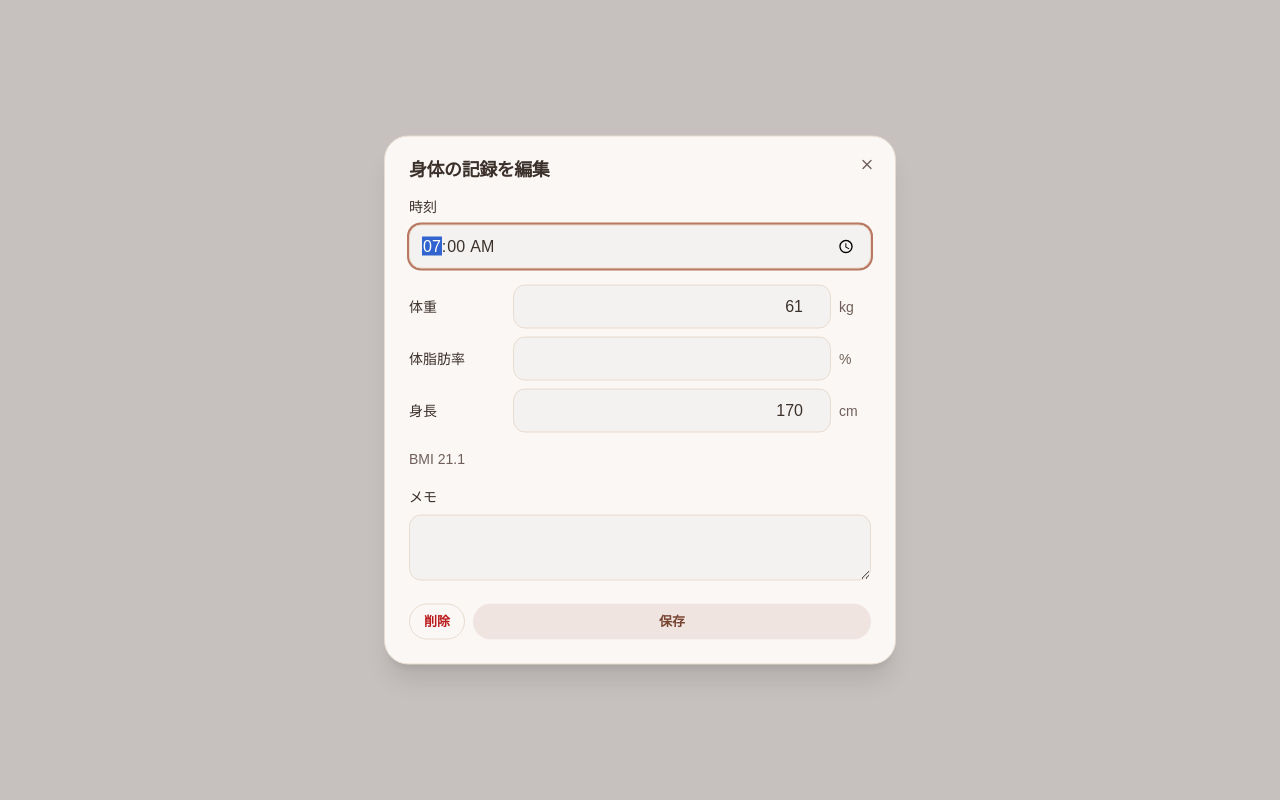
Test: ModuleRecordDialog › does not show the edited record's own values as previous values
The width and height of the screenshot is (1280, 800).
Replace the text in the time field labelled "時刻" with "09:00": [640, 246] box [409, 224, 871, 268]
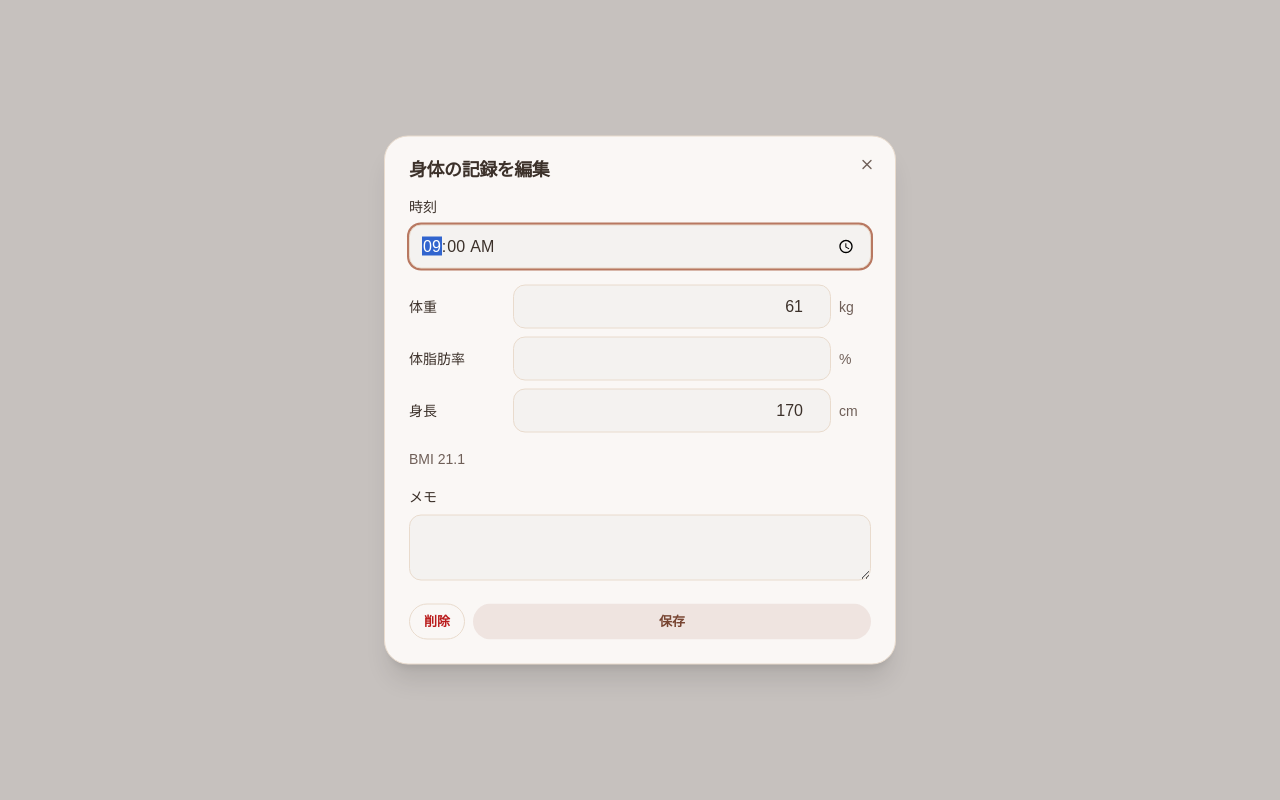
Clear the number field labelled "身長": [672, 410] box [513, 388, 831, 432]
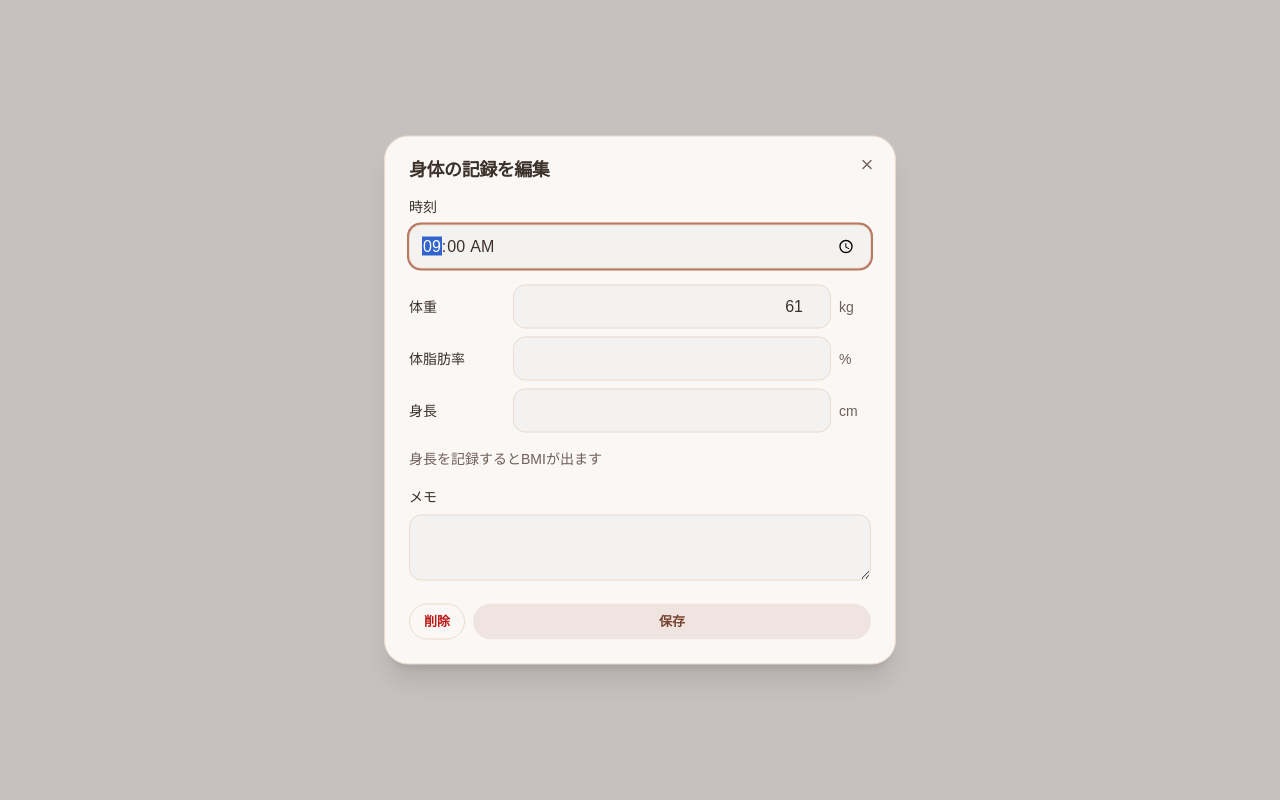
Expected: the text "身長を記録するとBMIが出ます" is shown, [409, 450, 602, 466]
